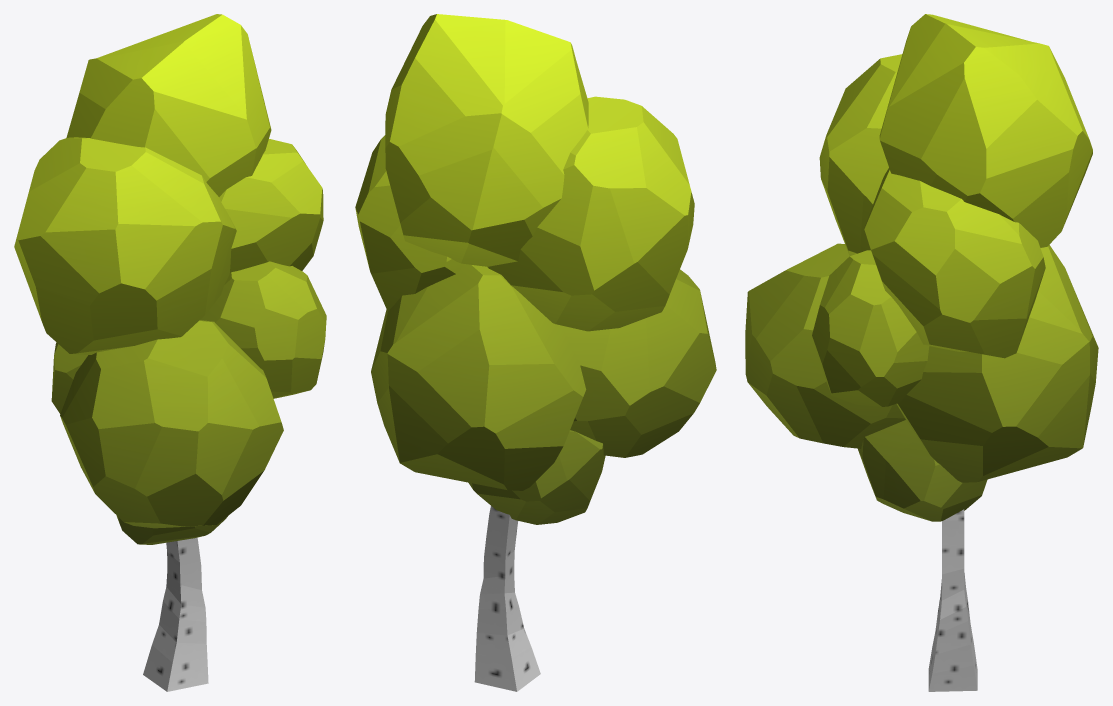
3 views of the same model, side by side, from view 1: azimuth 30°, elevation 25°; view 2: azimuth 150°, elevation 25°; view 3: azimuth 270°, elevation 25° (orthographic). The views are drawn at different scales.
Visible parts, largest first — view 1: 9.001; view 2: 9.001; view 3: 9.001.
Boxes of the visible parts, box(x1,y1,x2,y2) form: 9.001: box(14, 14, 326, 691); 9.001: box(355, 14, 716, 691); 9.001: box(745, 14, 1098, 691).
Bounding box in the file's own units: 2.79 × 5.57 × 2.69.
Materials: 2 (2 with a texture image).
